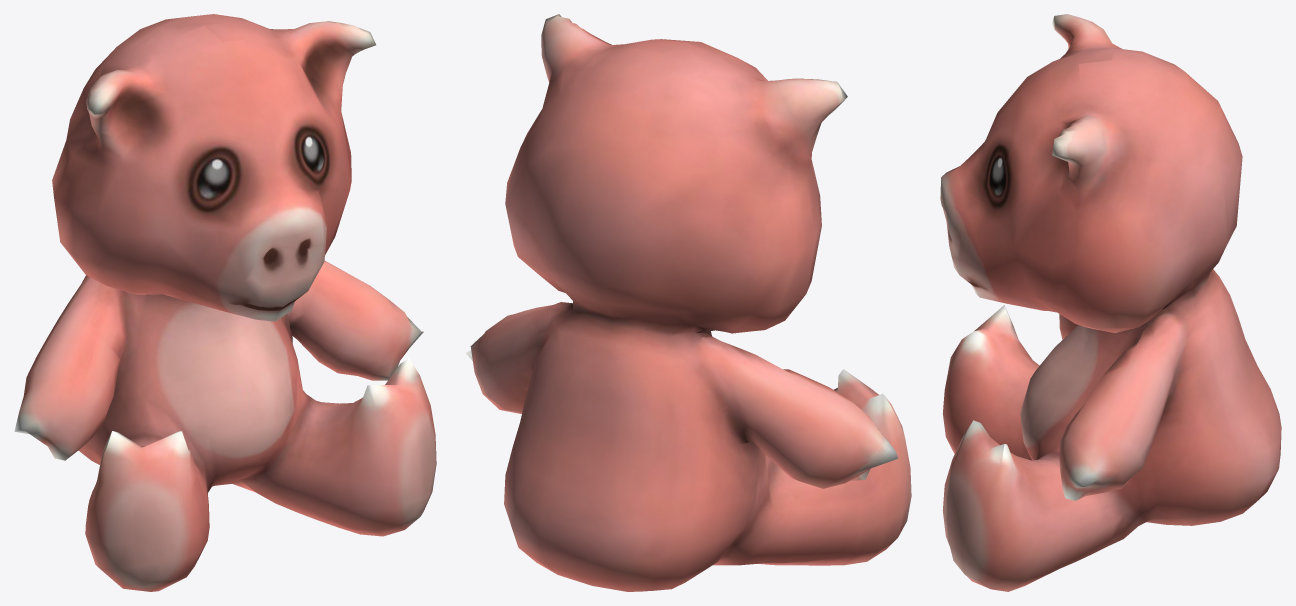
File: Pig.glb
The picture shows the model from 3 angles, left to right: view 1: azimuth 30°, elevation 25°; view 2: azimuth 150°, elevation 25°; view 3: azimuth 270°, elevation 25°; orthographic projection. The views are drawn at different scales.
Parts seen in each view (by area): view 1: pig; view 2: pig; view 3: pig.
Boxes of the visible parts, left/top/right/bottom form: pig: left=14, top=14, right=436, bottom=591; pig: left=466, top=14, right=911, bottom=591; pig: left=940, top=14, right=1281, bottom=591.
Bounding box in the file's own units: 1.65 × 1.88 × 1.24.
Materials: 1 (1 with a texture image).
